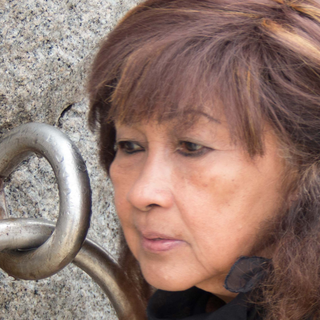eye: (165, 134, 221, 160), (111, 136, 147, 159)
